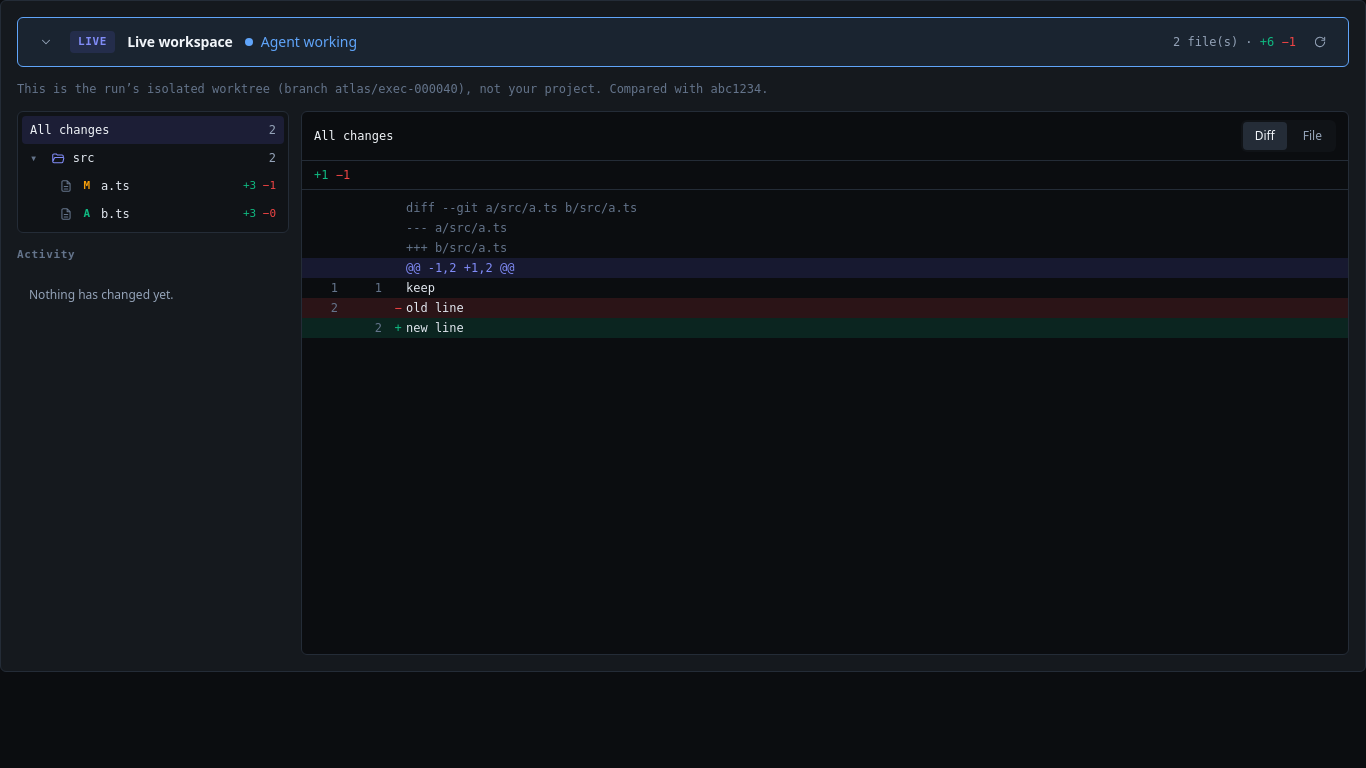
the live workspace: the viewer › keeps showing the previous text while the same file is read again
What coordinates should you click on to do the following:
click the button with aria-label "src/a.ts (Modified)"
I would click on:
 (66, 186)
Its box is [22,172,284,200].
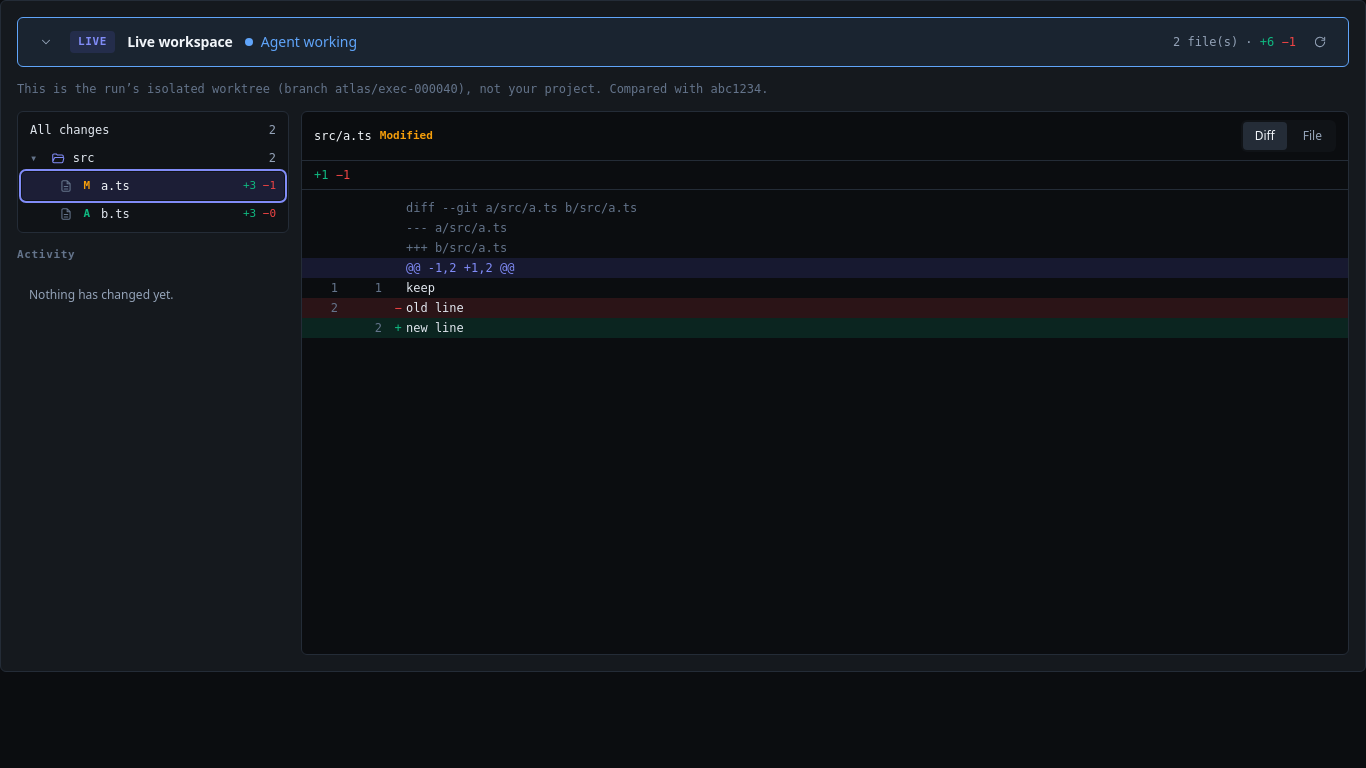
What coordinates should you click on to do the following:
click the tab "File"
I would click on:
 (1312, 136)
Its box is [1291,122,1334,150].
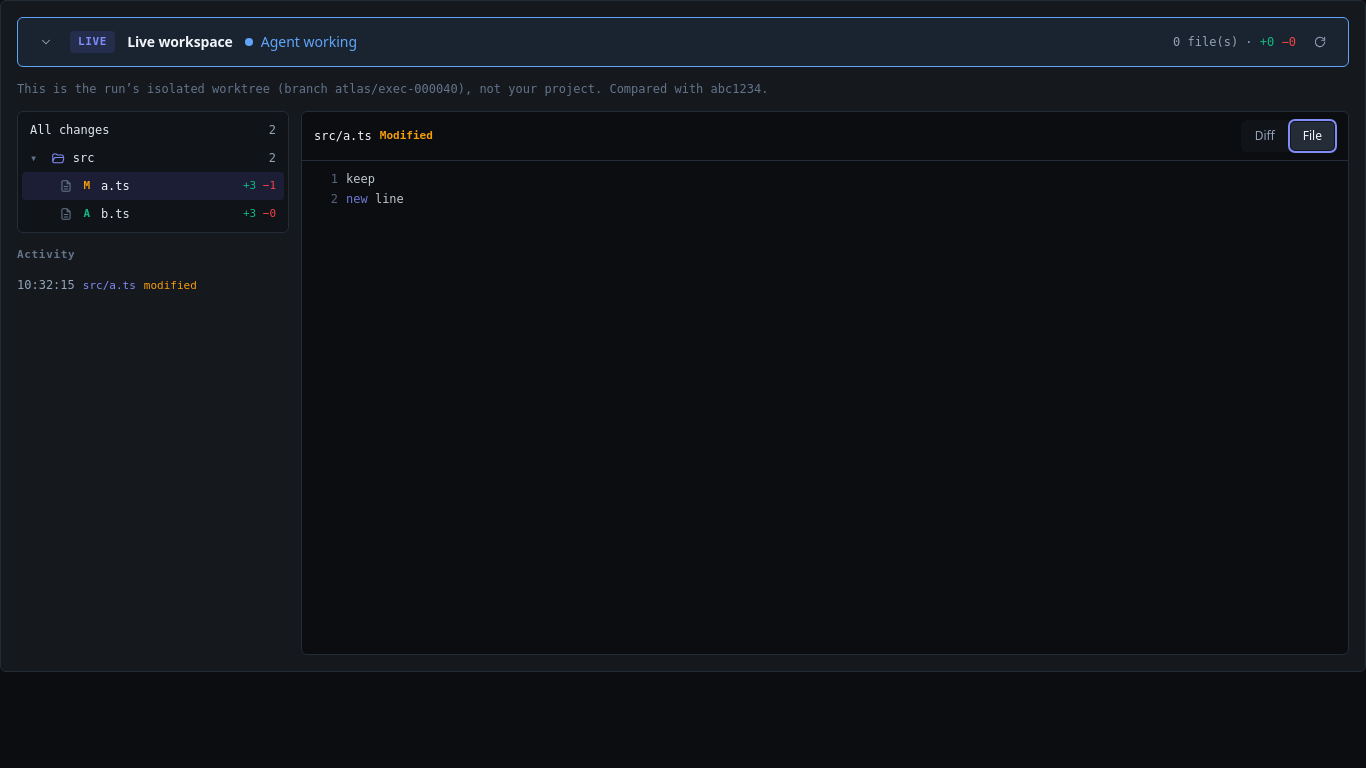
Result: the element named "Content of src/a.ts" shows "new line" at [331,172,404,206]
